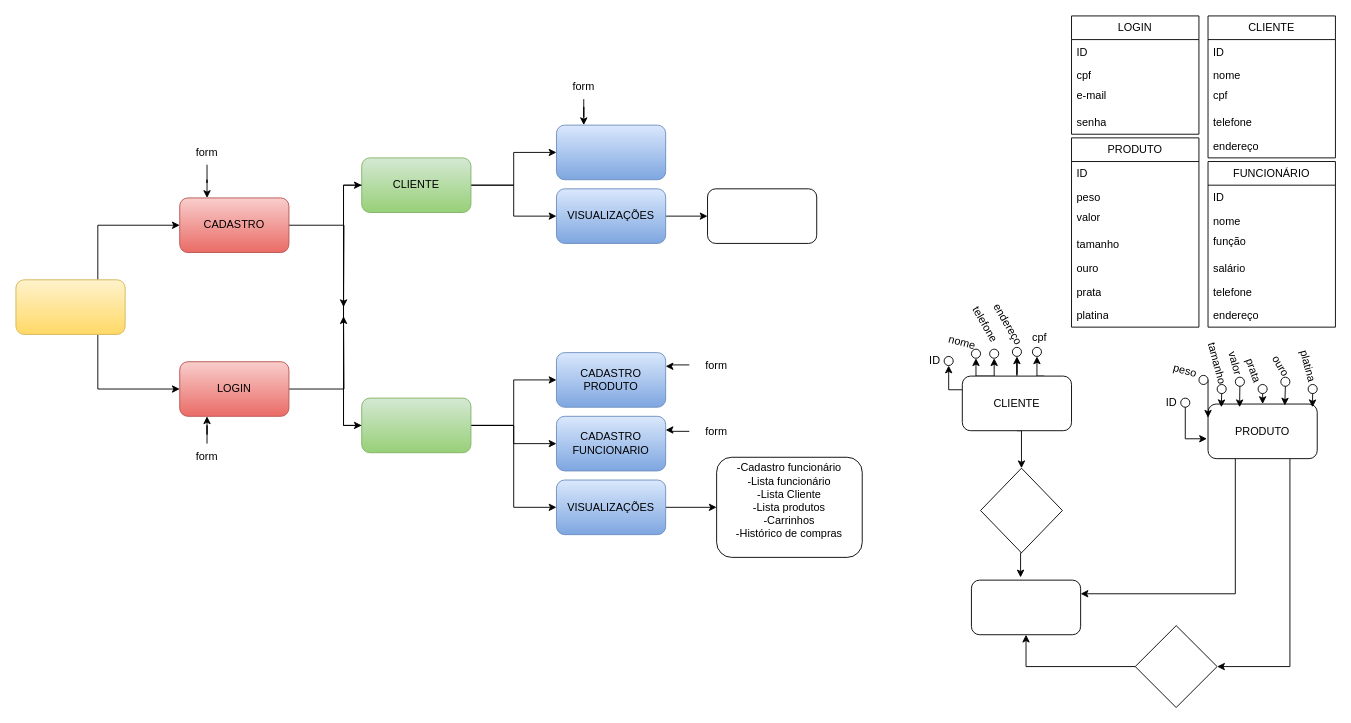
Image size: 1351x723. Some labels were removed from this diagram. The centre of each missing label's shape, as x and y in pixels:
-Colocar no carrinho -Histórico de Compra -Editar dados Cliente: (762,215)
adicionar ao carrinho: (1021,510)
ADM: (416,425)
CARRINHO: (1026,607)
COMPRA: (611,152)
HOME: (70,306)
selecionar produto: (1175,666)
